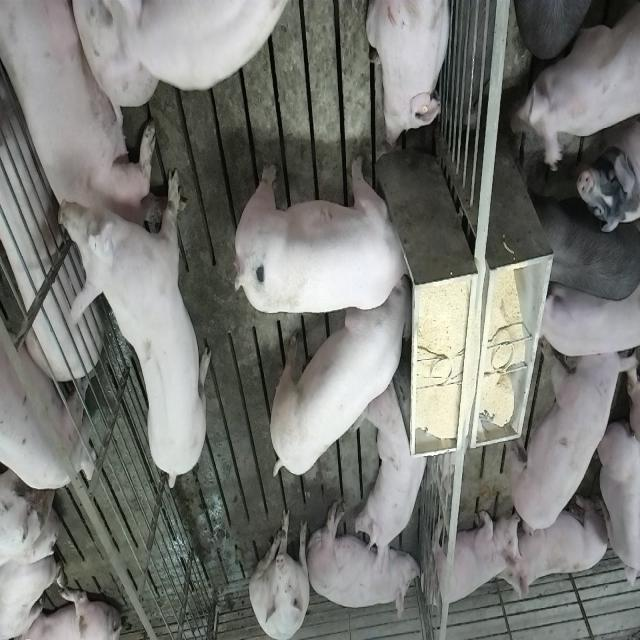Feeding: (264, 278, 412, 480), (229, 155, 410, 317)
Lateral_lying: (306, 500, 422, 620)
Sitting: (250, 506, 312, 638)
Standing: (56, 168, 210, 492), (508, 333, 630, 537), (506, 0, 637, 174), (0, 292, 94, 485), (532, 188, 640, 304), (532, 275, 640, 358)
Sternal_lying: (0, 0, 157, 269), (356, 382, 433, 572), (365, 0, 453, 150), (504, 488, 612, 602), (424, 506, 516, 612)
